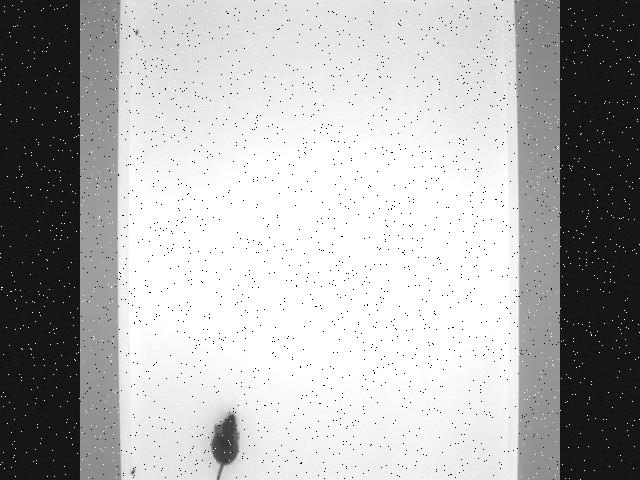Tikus: (180, 405, 240, 480)
